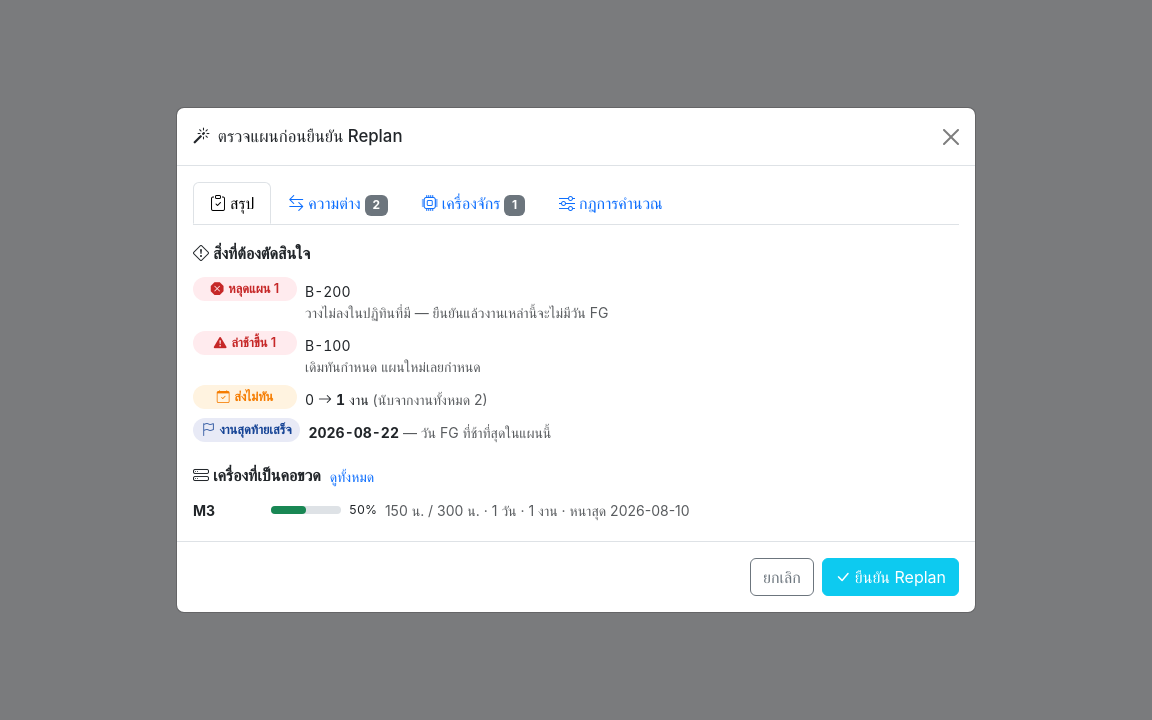
Scenario: PlanPreviewDialog — แท็บหลัก › แท็บกฎการคำนวณ: โชว์กฎรายออเดอร์ + บอกขอบเขตว่าไม่ตอบ "ทำไม"
The width and height of the screenshot is (1152, 720).
Click the tab "กฎการคำนวณ" at (611,203), box [542, 182, 680, 224]
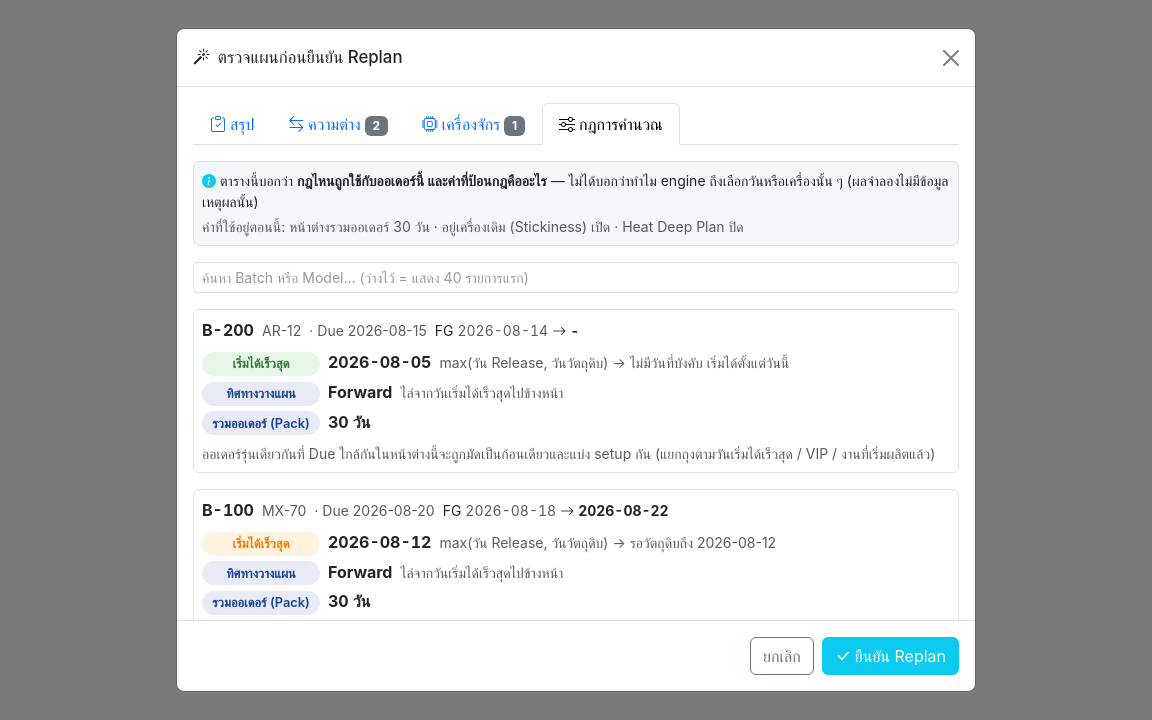
Expected: the text "ไม่ได้บอกว่าทำไม engine ถึงเลือกวันหรือเครื่องนั้น" is shown, [202, 172, 948, 210]
Expected: the text "เริ่มได้เร็วสุด" next to "2026-08-05" is shown, [232, 356, 290, 371]
Expected: the text "ทิศทางวางแผน" below "2026-08-05" is shown, [226, 386, 296, 401]
